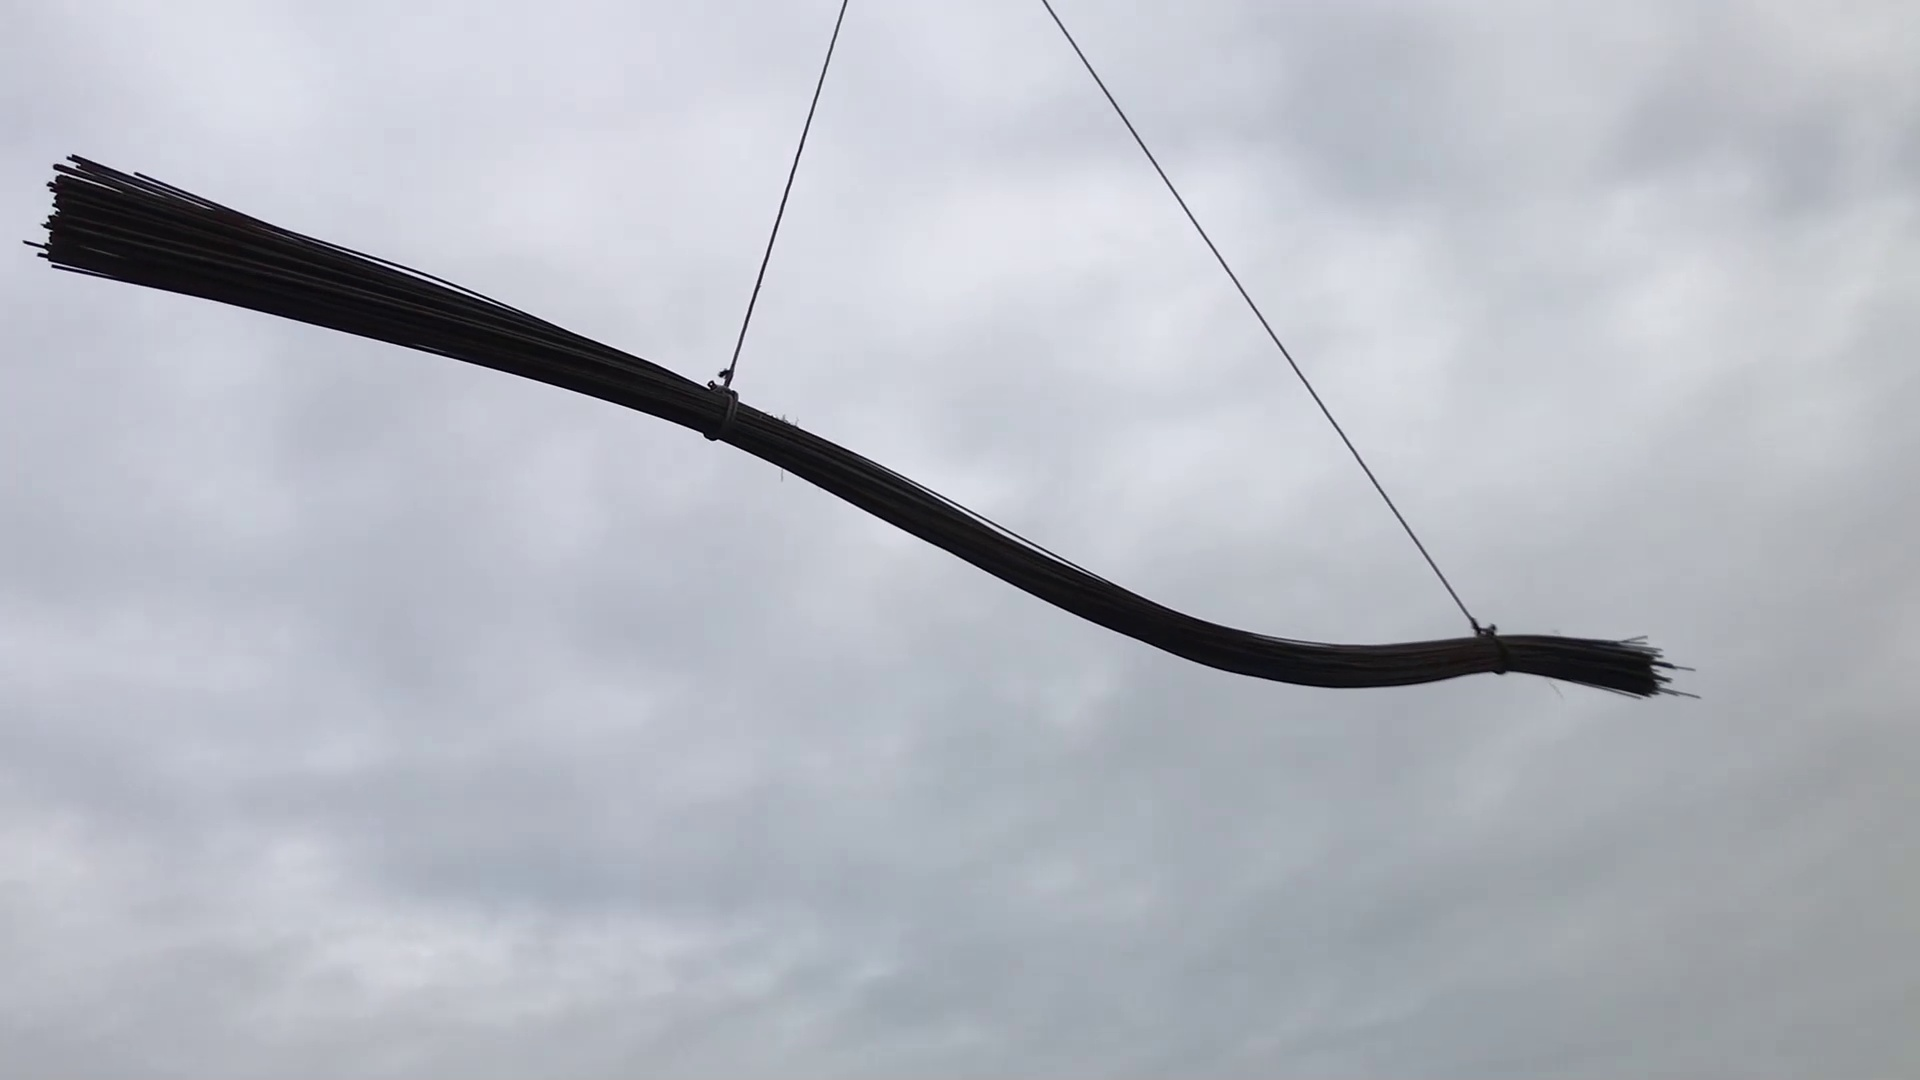rebar: (996, 578, 1687, 707), (79, 237, 555, 347), (663, 384, 894, 481)
